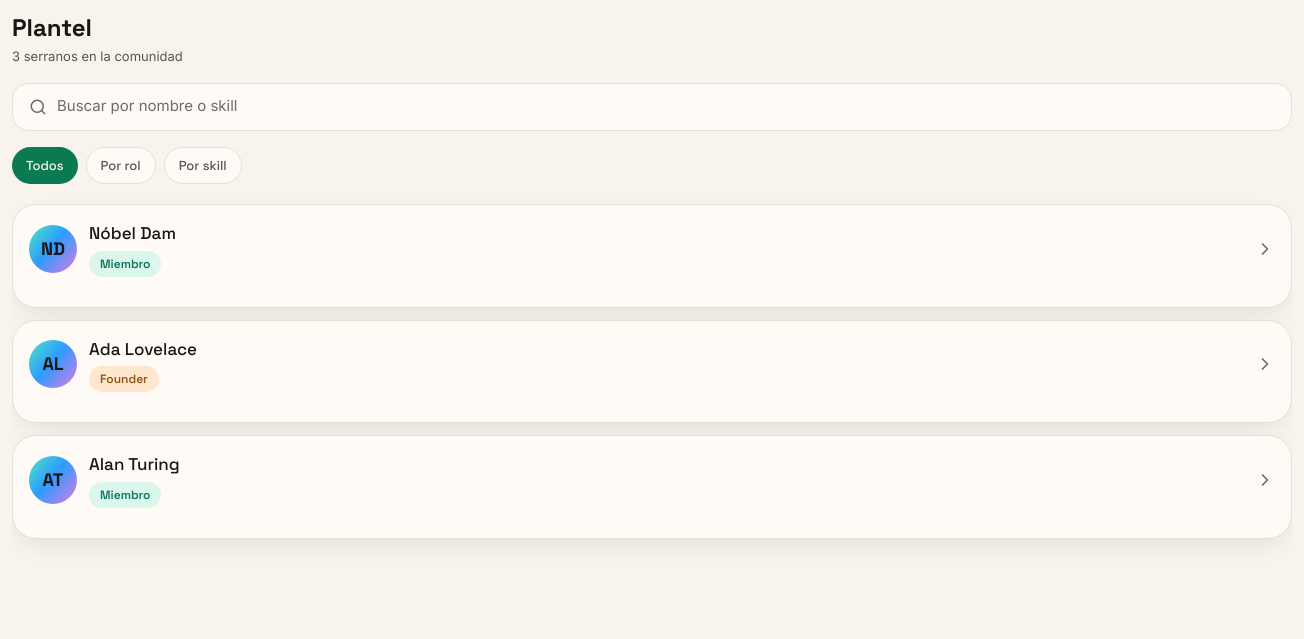
Test: PlantelList › Por rol opens a picker and selecting a role filters the list
Click the button "Por rol". click: (121, 165)
box: [86,146,156,184]
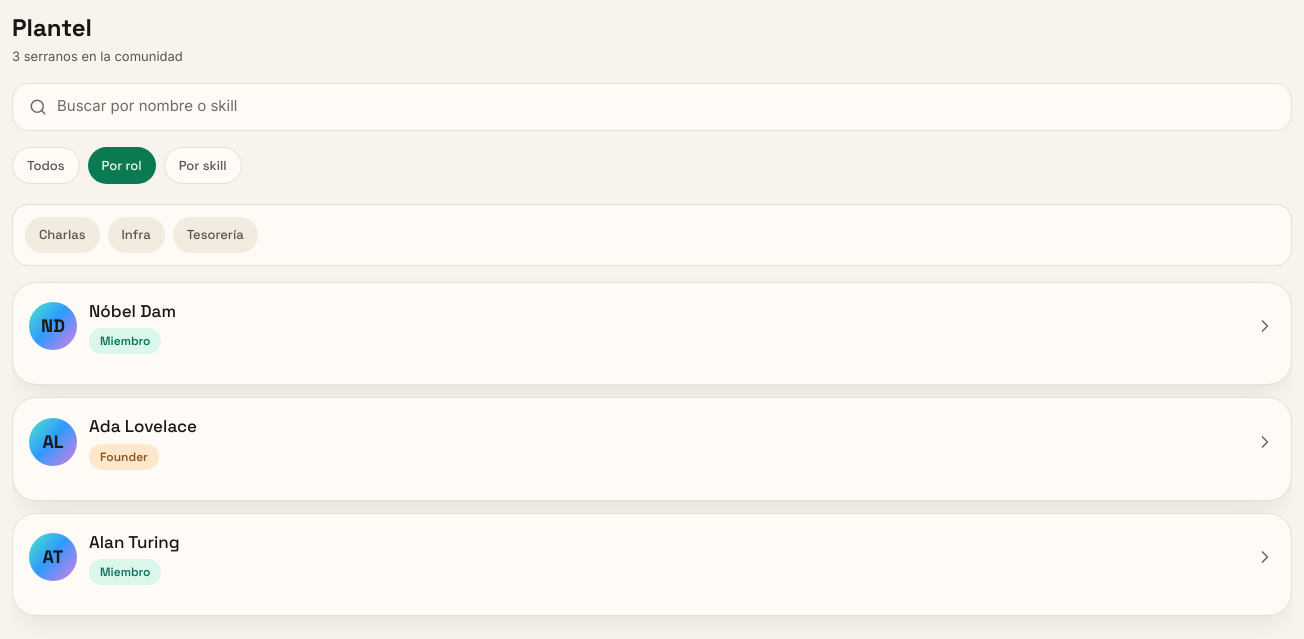
Click the button "Tesorería". click: (215, 235)
box: [173,217,258,252]
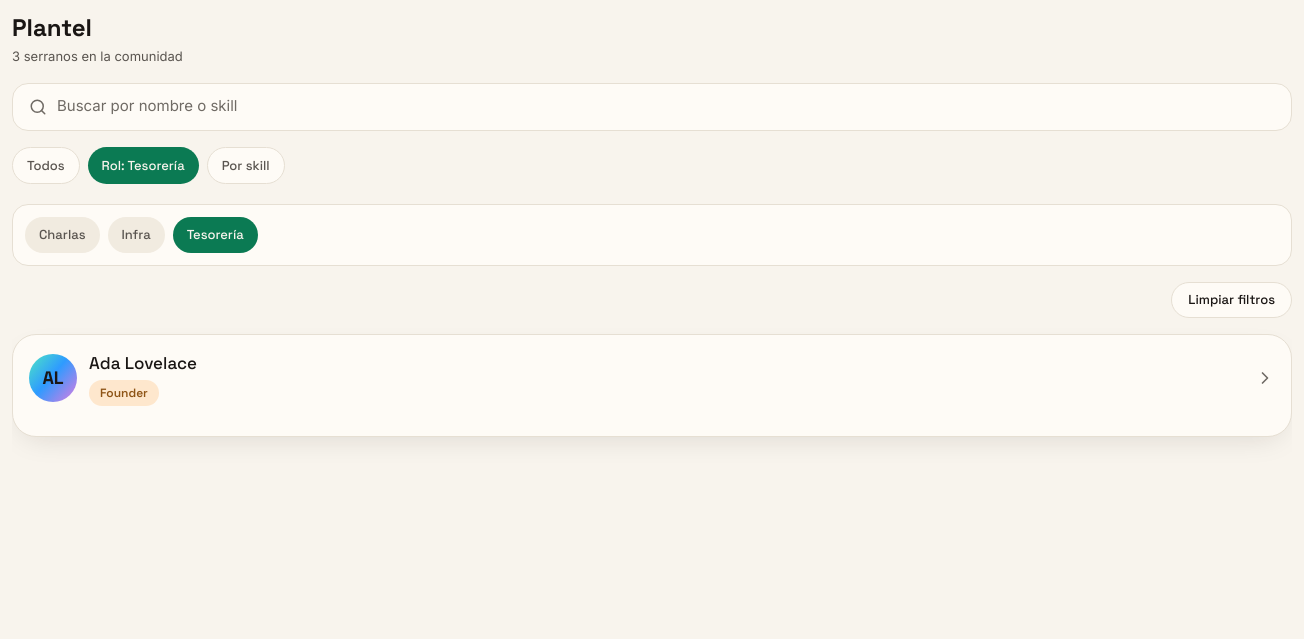
Expected: the text "Ada Lovelace" is shown, [89,350,197,376]
Expected: the link "Nóbel Dam" is gone
